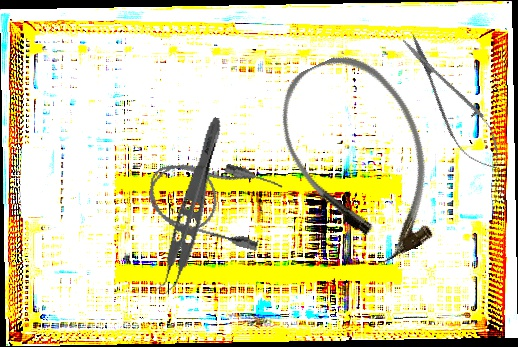Cannula: (259, 37, 464, 280), (140, 145, 285, 254)
Micro Scissor: (391, 26, 513, 180)
Tissue Forceps: (150, 112, 227, 300)
